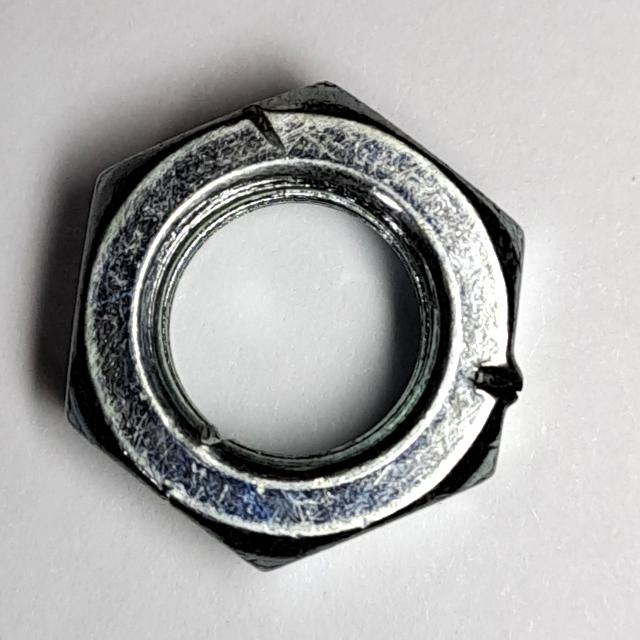Scratches: (57, 59, 539, 592)
